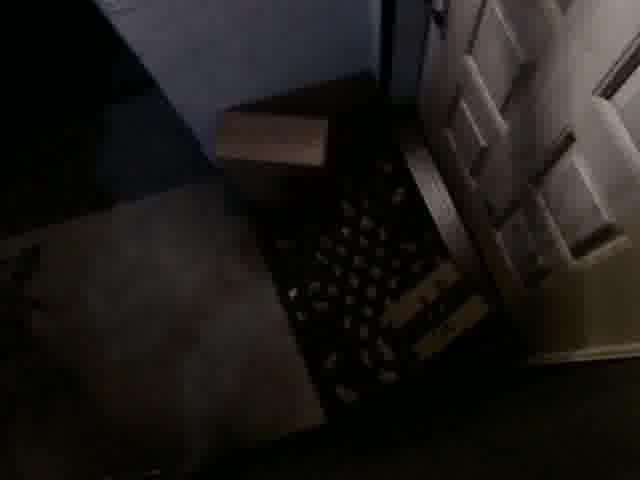box: (378, 260, 494, 363), (211, 107, 328, 171)
